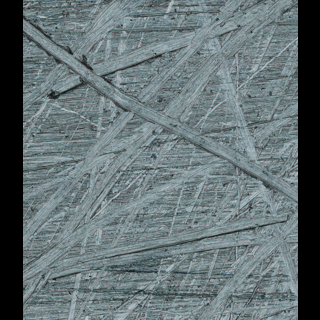d: (23, 2, 297, 317)
